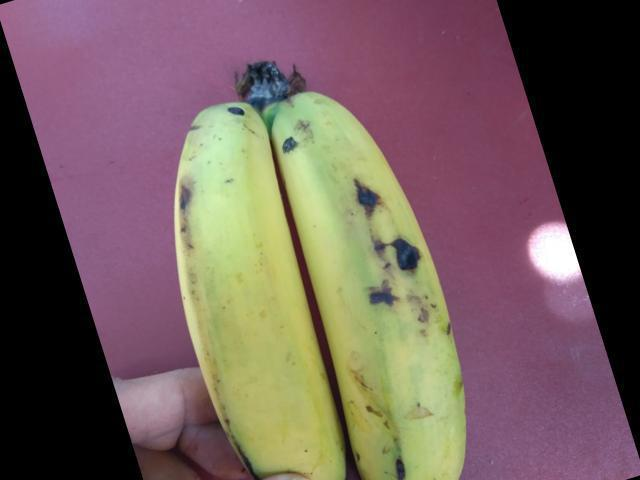ripe: (269, 77, 512, 479), (164, 86, 323, 479)
